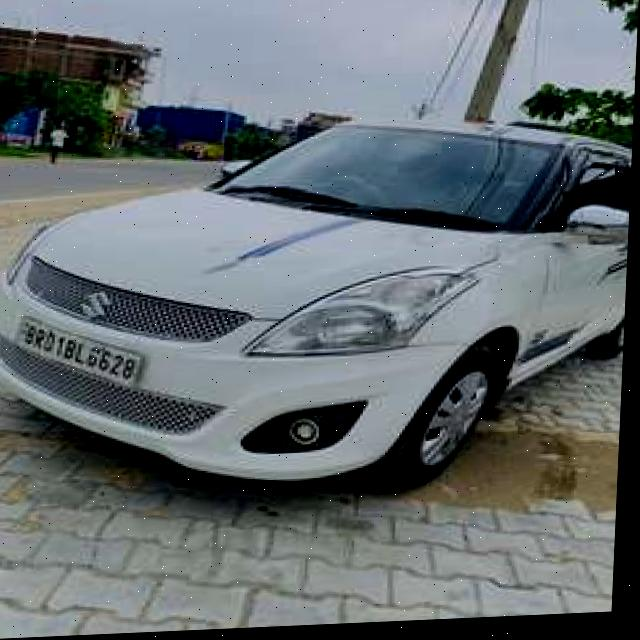plate: (13, 310, 148, 391)
